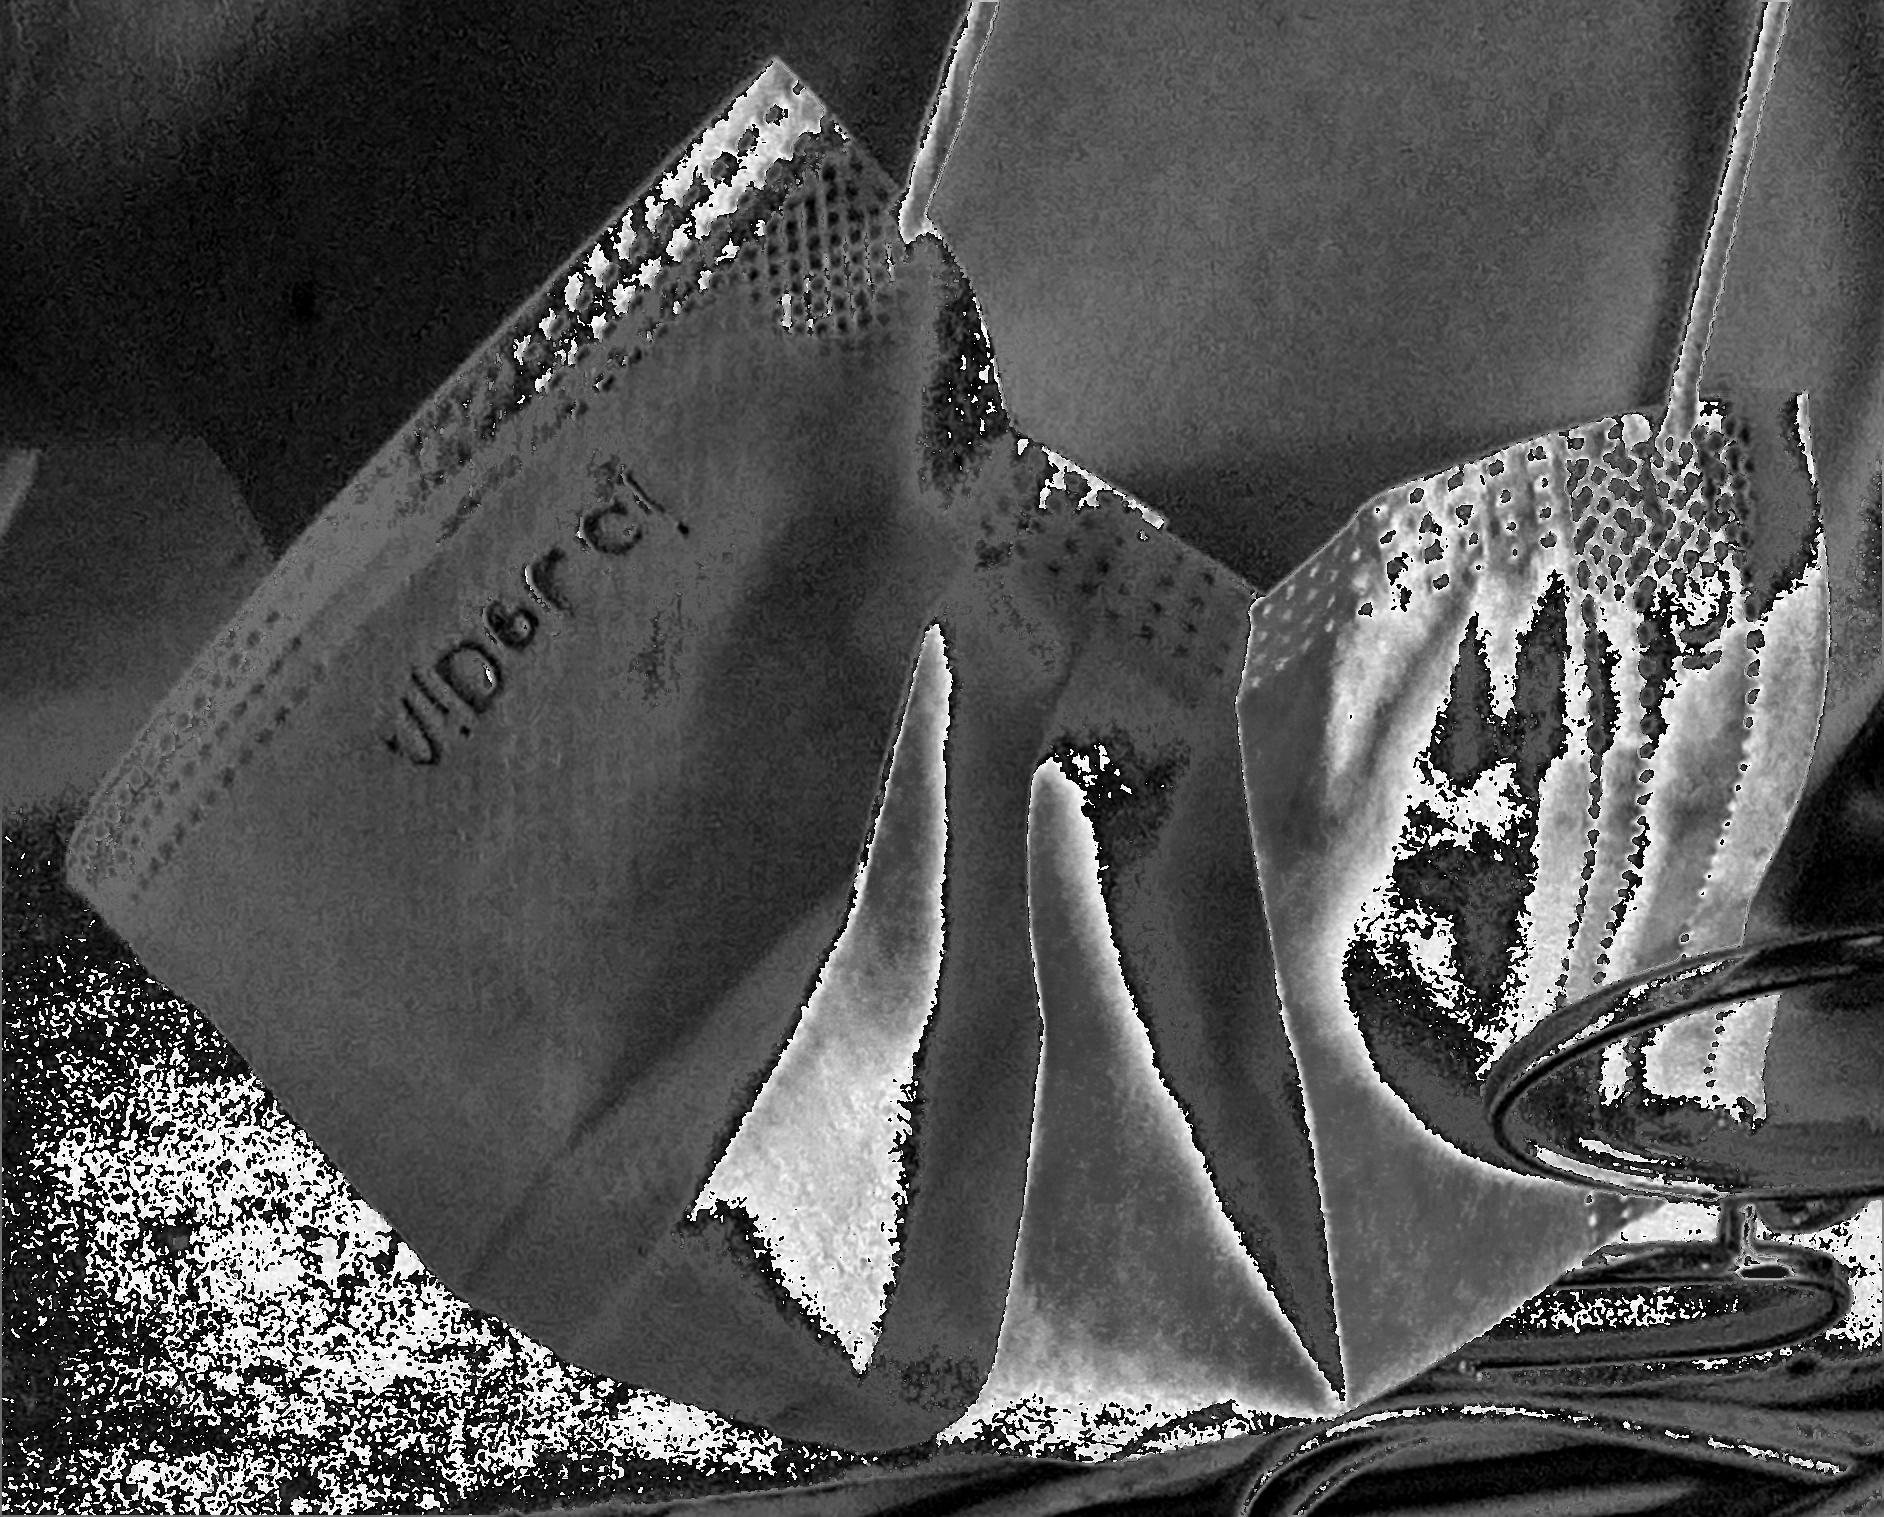Low GSM: (992, 721, 1338, 1444)
